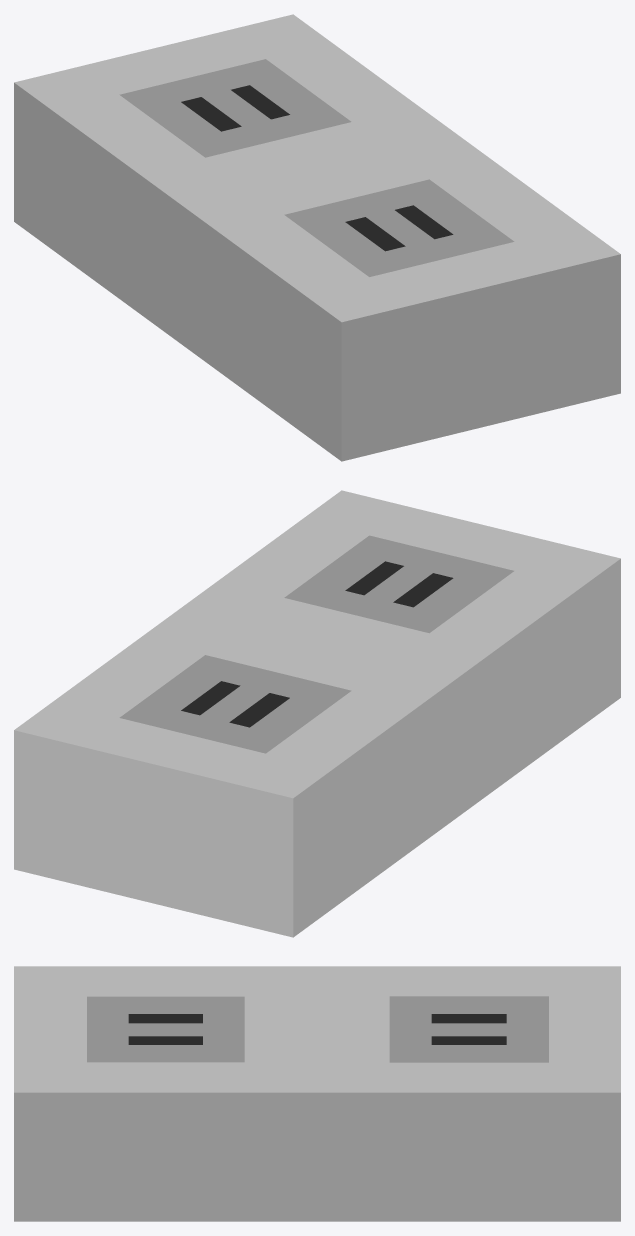
Rendered from PowerOutlet.glb.
The picture shows the model from 3 angles, top to bottom: view 1: azimuth 30°, elevation 25°; view 2: azimuth 150°, elevation 25°; view 3: azimuth 270°, elevation 25°; orthographic projection. The views are drawn at different scales.
Visible parts, largest first — view 1: SO_PowerOutlet; view 2: SO_PowerOutlet; view 3: SO_PowerOutlet.
Part boxes in pixels (<box>): SO_PowerOutlet: <box>14,14,620,461</box>; SO_PowerOutlet: <box>14,490,620,937</box>; SO_PowerOutlet: <box>14,966,620,1221</box>.
Bounding box in the file's own units: 0.2479 × 0.1182 × 0.5038.
Materials: 1 (1 with a texture image).
